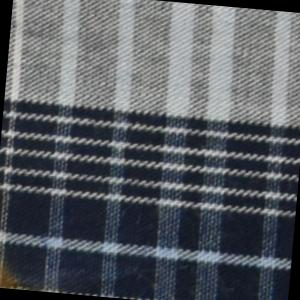Oil Stain: (1, 246, 46, 292)
